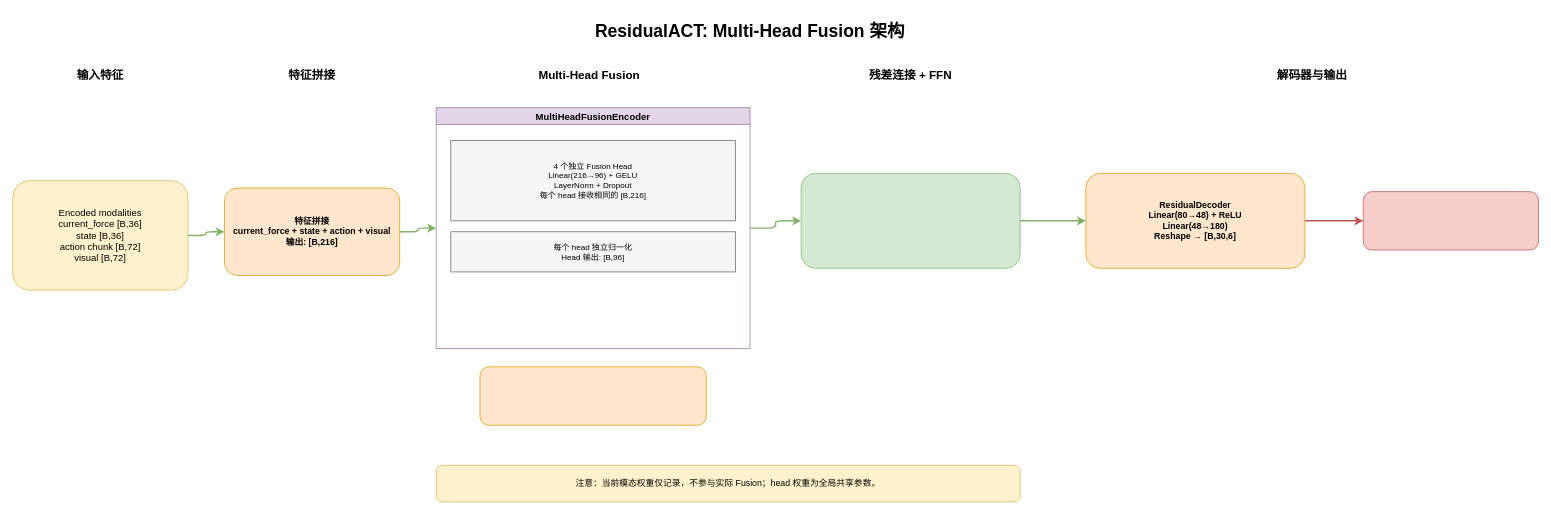
Some shapes in this 1551 by 515 pixel diagram are drawn without their labels. The shapes that lost their labels are listed below. From the top down, each one's centre as x and y in pixels, then its label:
(x=910, y=220): Weighted sum LayerNorm → residual connection → FFN Fusion output [B,80]
(x=1450, y=220): 30-step delta action Δaction [B,30,6]
(x=592, y=395): softmax(head_weights) 4 个全局 head 权重 加权叠加 → LayerNorm
